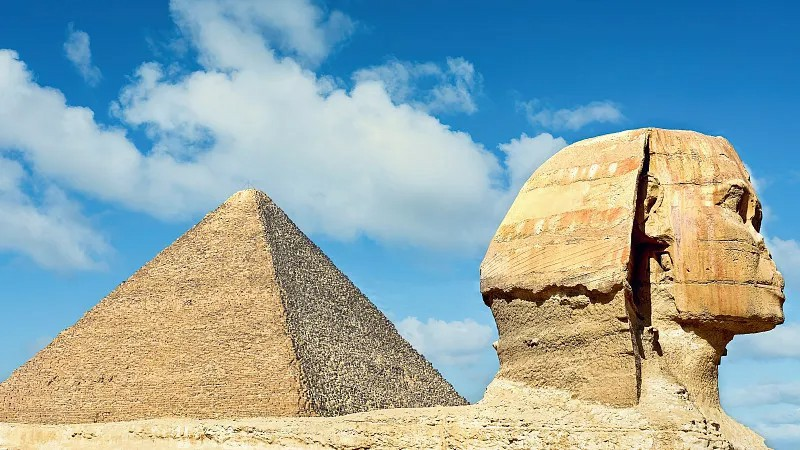Pyramid: (1, 188, 468, 420)
